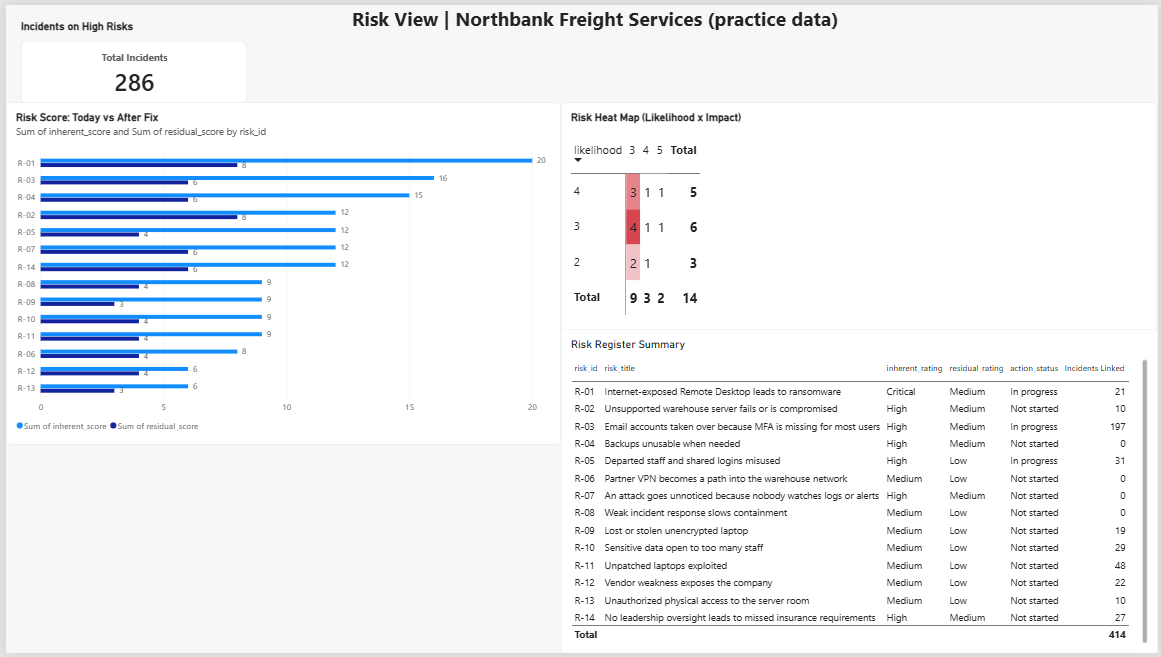

The dashboard page shown, as its layout file describes it:
{"tool":"powerbi","page":{"name":"Risk View","canvas":[1920,1080],"ordinal":2},"visuals":[{"type":"textbox","box":[434,0,1094,76],"z":0},{"type":"clusteredBarChart","title":"Risk Score: Today vs After Fix","fields":{"Category":["risk_register.risk_id"],"Y":["Sum(risk_register.inherent_score)","Sum(risk_register.residual_score)"]},"box":[0,163.5,924.4,570.1],"z":1000},{"type":"pivotTable","title":"Risk Heat Map (Likelihood x Impact)","fields":{"Columns":["risk_register.impact"],"Rows":["risk_register.likelihood"],"Values":["CountNonNull(risk_register.risk_id)"]},"box":[924.4,163.5,992.6,399.8],"z":2000},{"type":"tableEx","title":"Risk Register Summary","fields":{"Values":["risk_register.risk_id","risk_register.risk_title","risk_register.inherent_rating","risk_register.residual_rating","risk_register.action_status","security_incidents.Incidents Linked"]},"box":[924.4,540.6,994.8,540.6],"z":3000},{"type":"cardVisual","title":"Incidents on High Risks","fields":{"Data":["security_incidents.Total Incidents"]},"box":[26,24,376,138],"z":3001}]}

Visuals, with their boxes in screenshot pixels (x1, y1, x2, y2), scaled from the page's 1920x1080 canvas onto the 1161x657 screenshot:
textbox: <region>262, 0, 924, 46</region>
"Risk Score: Today vs After Fix" clusteredBarChart: <region>0, 99, 559, 446</region>
"Risk Heat Map (Likelihood x Impact)" pivotTable: <region>559, 99, 1159, 343</region>
"Risk Register Summary" tableEx: <region>559, 329, 1160, 656</region>
"Incidents on High Risks" cardVisual: <region>16, 15, 243, 99</region>
